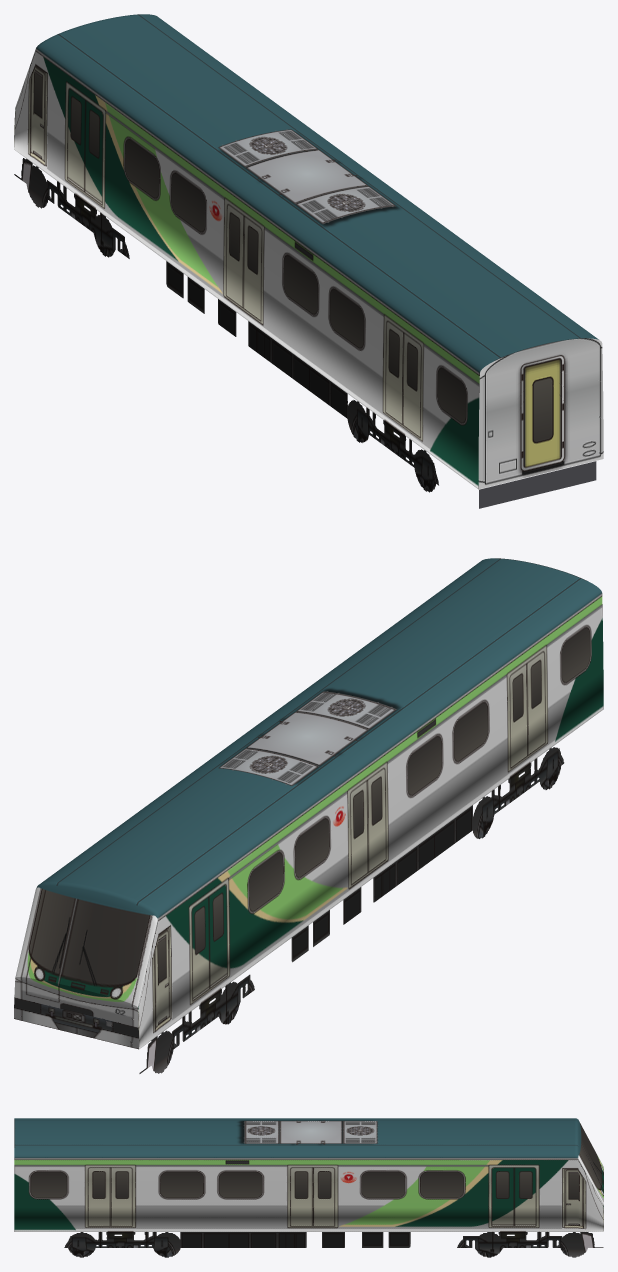
File: car3.glb
The picture shows the model from 3 angles, top to bottom: view 1: azimuth 30°, elevation 25°; view 2: azimuth 150°, elevation 25°; view 3: azimuth 270°, elevation 25°; orthographic projection. The views are drawn at different scales.
Visible parts, largest first — view 1: tokyu7000-car3; view 2: tokyu7000-car3; view 3: tokyu7000-car3.
Boxes of the visible parts, x1,y1,x2,y2 form: tokyu7000-car3: [14, 14, 603, 508]; tokyu7000-car3: [14, 558, 603, 1073]; tokyu7000-car3: [14, 1118, 603, 1257].
Bounding box in the file's own units: 2.8 × 3.62 × 18.01.
7 materials, 6 textured.
